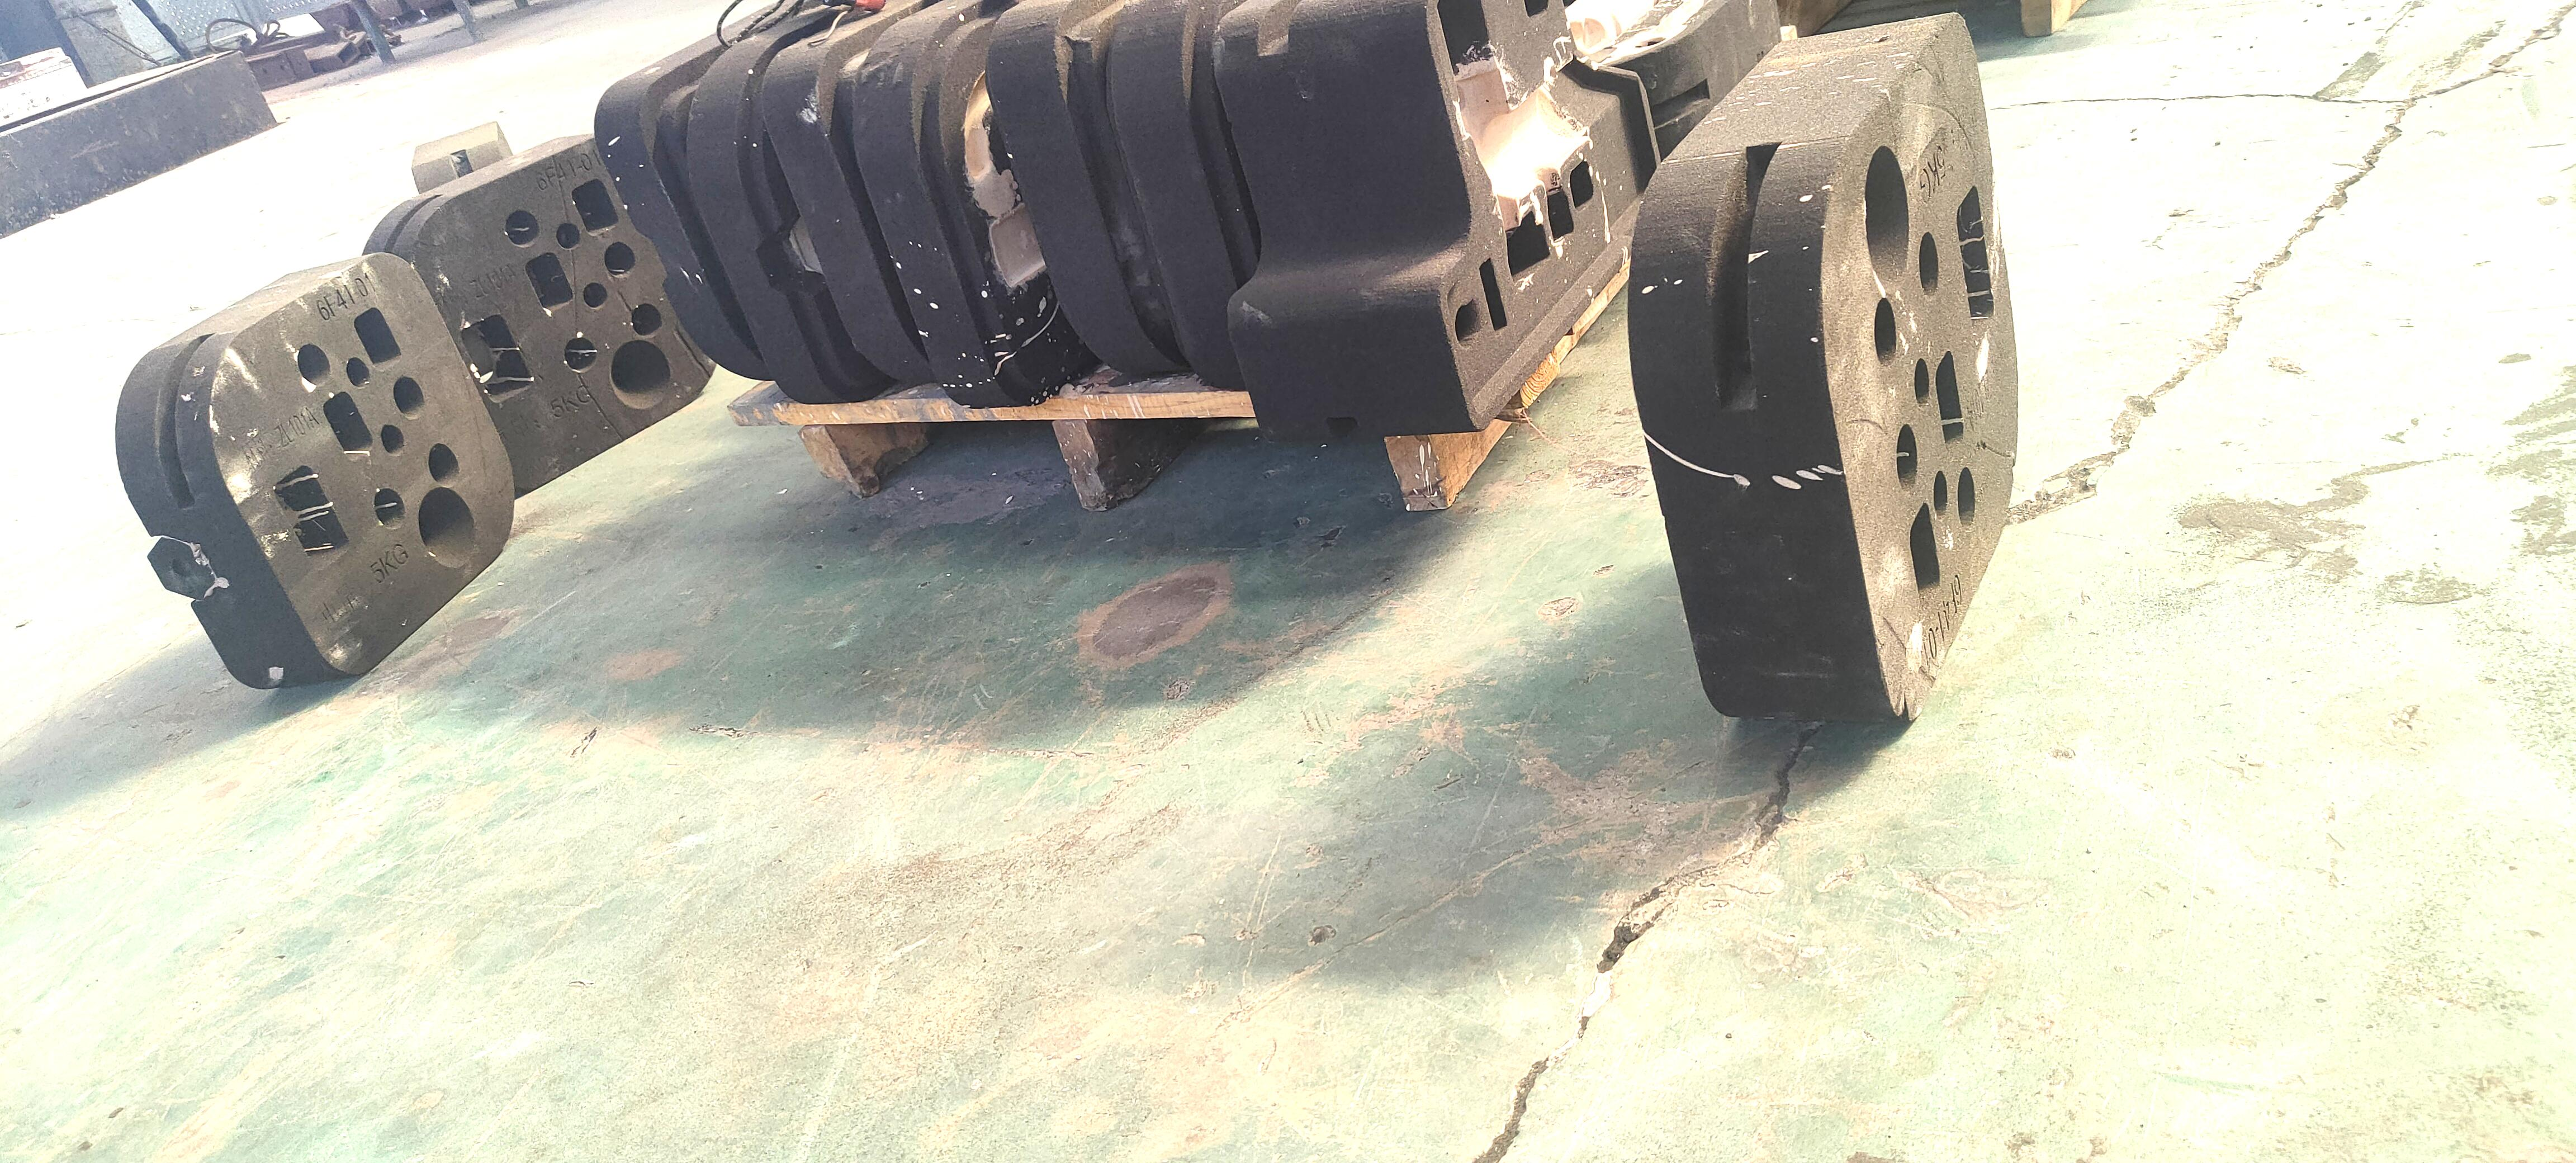pouring hole: (1865, 146, 1909, 289), (419, 488, 476, 568), (611, 340, 670, 411)
